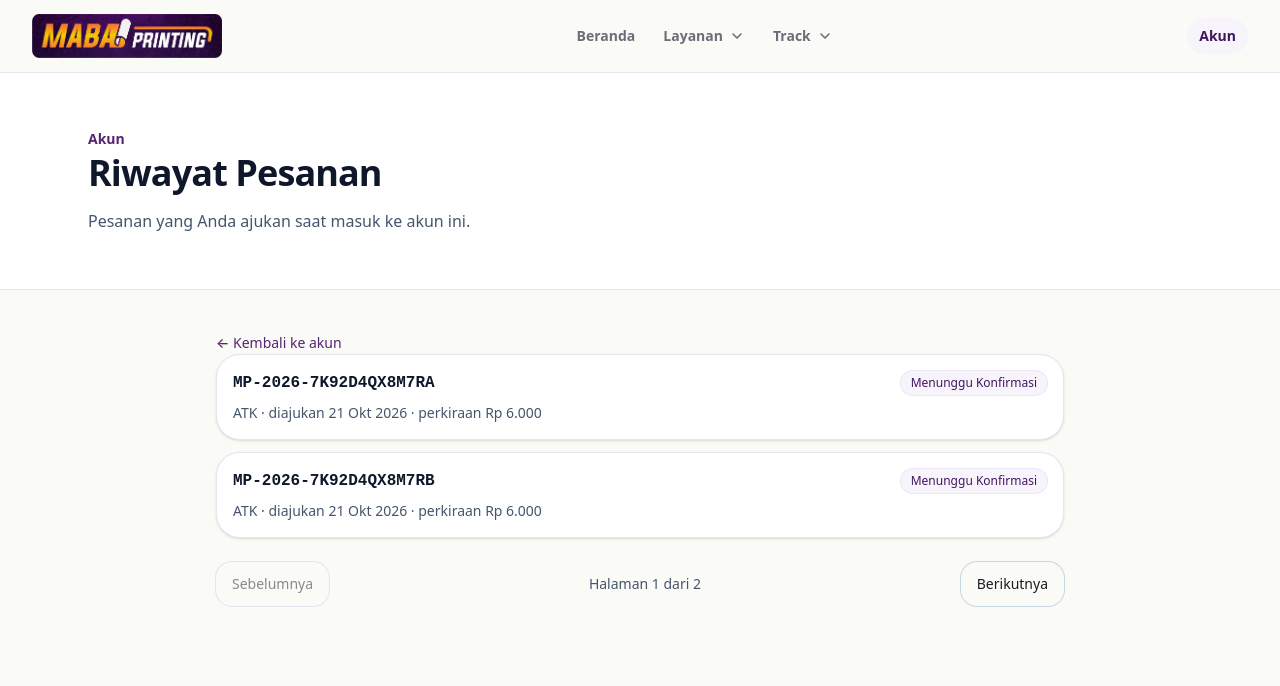
it: /account/orders › lists the member’s orders with pagination
Expected: the text "Halaman 1 dari 2" is shown, [589,574,701,594]
Step 1. Click the button "Berikutnya" → (1012, 584), box [961,562,1064,606]
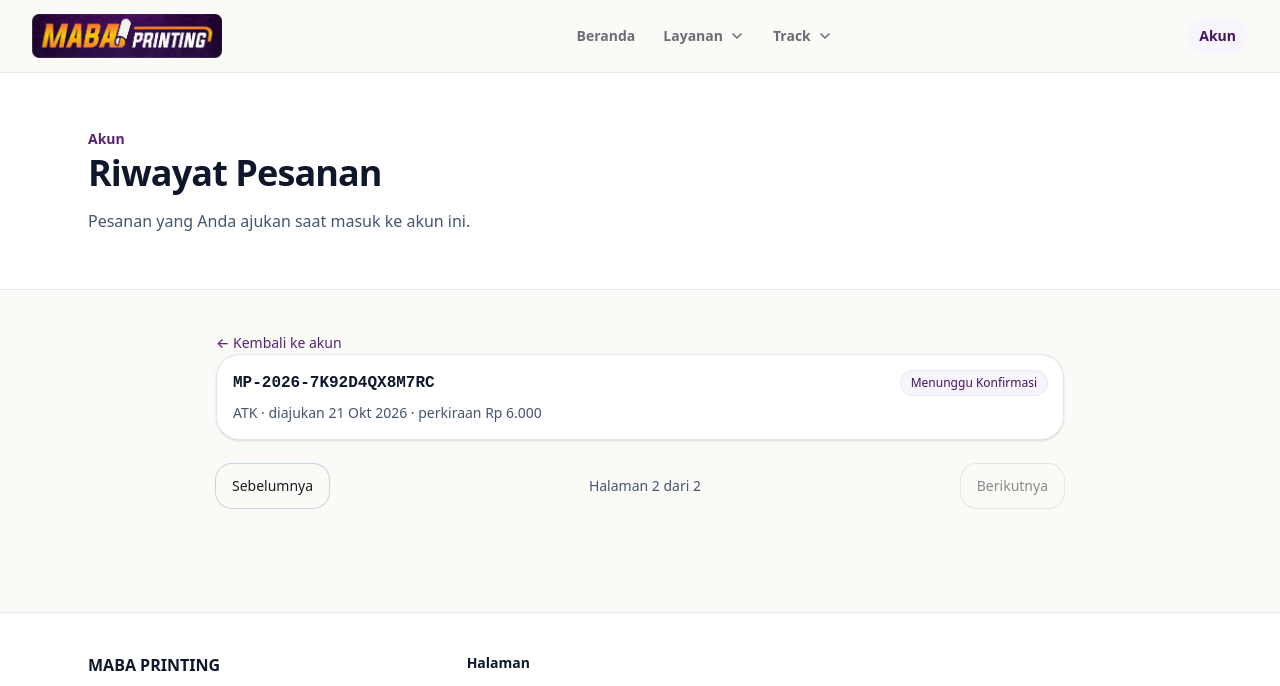
Now the text "Halaman 2 dari 2" is shown, box [589,476,701,496]
